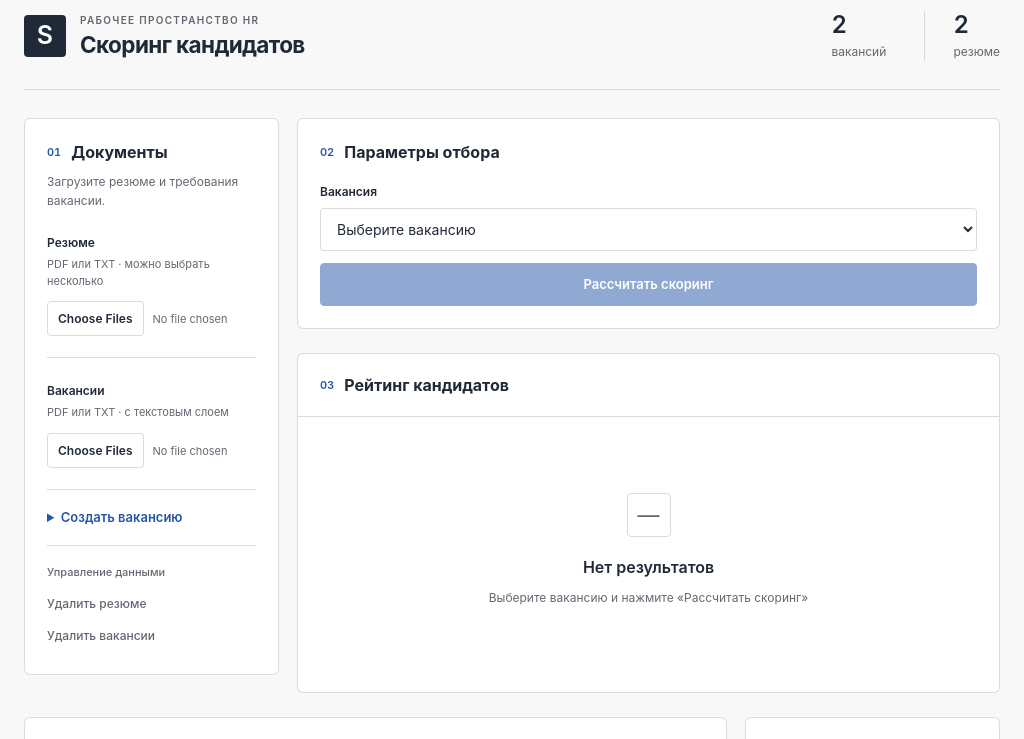
Scenario: reports a failed deletion without presenting it as success
What coordinates should you click on to do the following:
click the button "Удалить резюме"
I would click on:
 (152, 604)
Its box is [47,588,256,620].
(page scrolled)
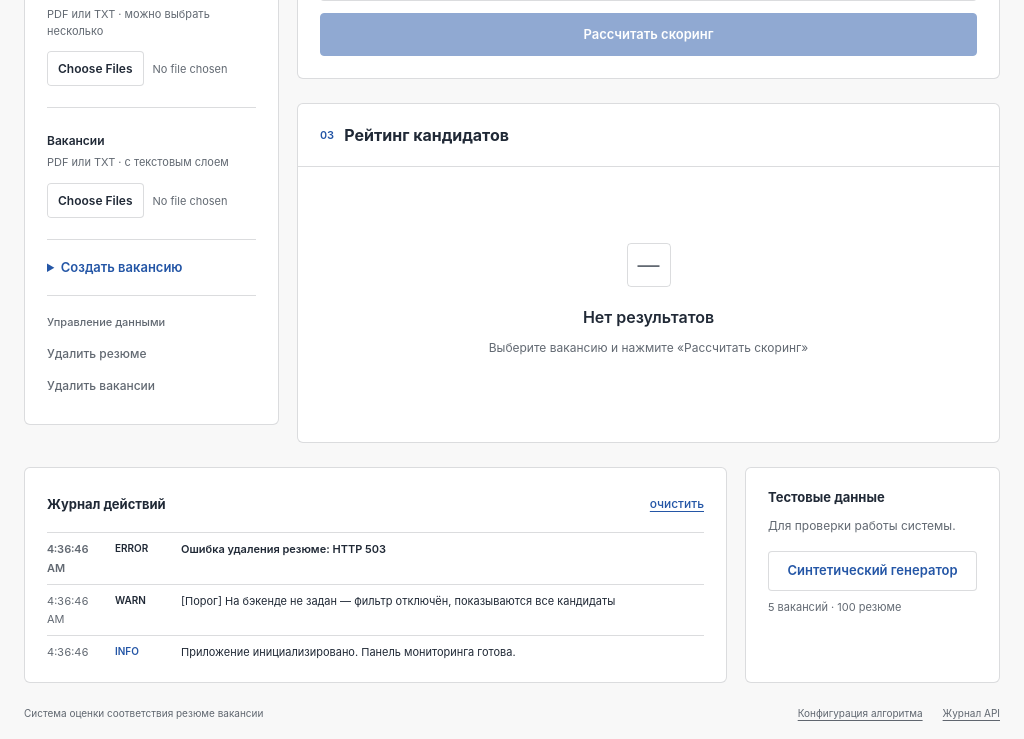
expect the text "Ошибка удаления резюме: HTTP 503" is shown: met, box [181,542,386,556]
